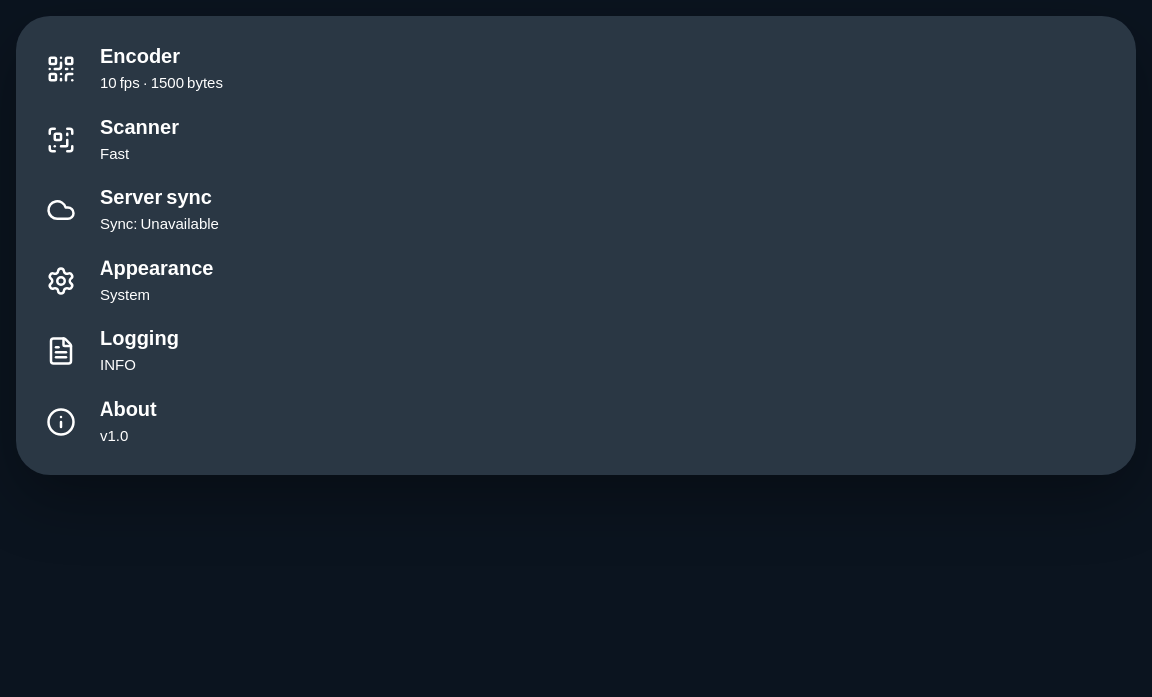
Test: SettingsTab server auth flow › shows same-origin mode for the default sync server URL
The width and height of the screenshot is (1152, 697).
What coordinates should you click on to do the following:
click the button "Server sync Sync: Unavailable"
I would click on:
 (61, 210)
Its box is left=16, top=175, right=1136, bottom=246.
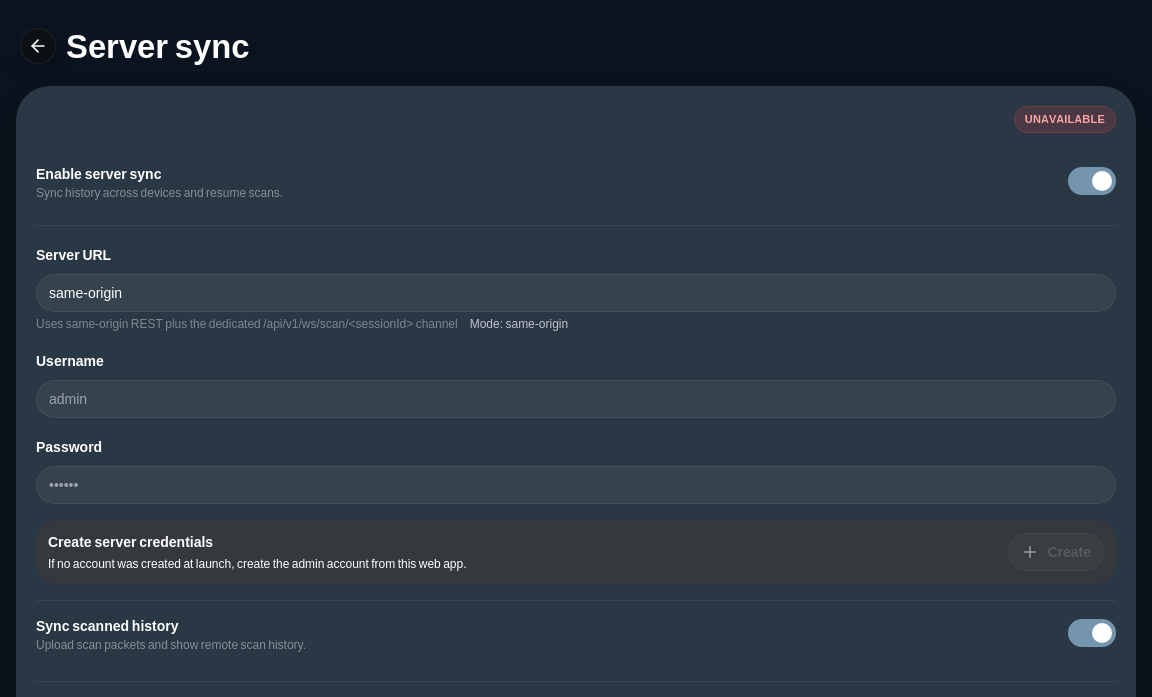
Expected: the text "Unavailable" is shown, left=1014, top=106, right=1116, bottom=132
Result: the text "Mode: same-origin" is shown at left=470, top=316, right=568, bottom=332
